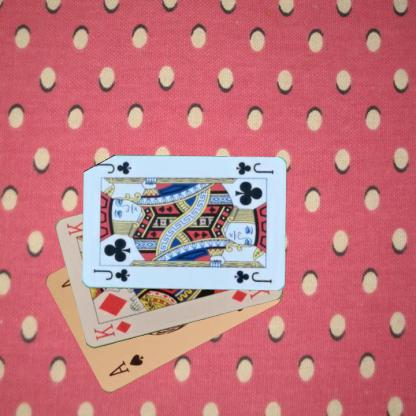As: (106, 352, 145, 378)
Jc: (233, 160, 276, 176), (90, 266, 130, 283)
Kd: (91, 318, 133, 342)
